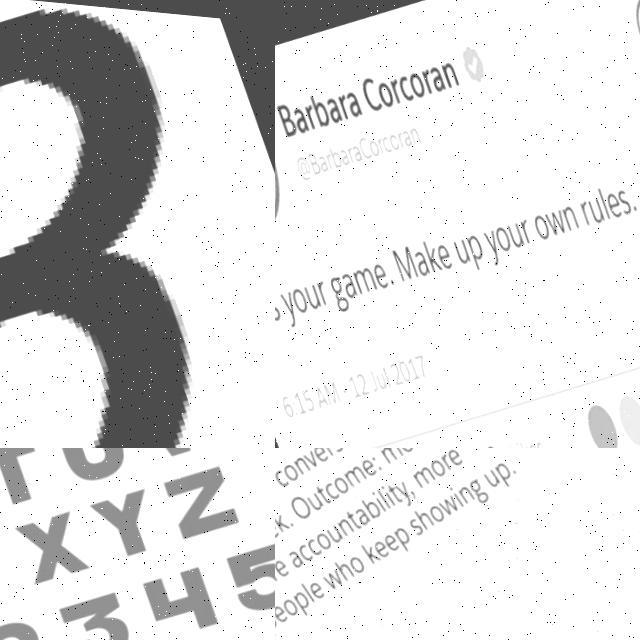1: (303, 385, 320, 413)
2: (0, 603, 59, 640), (282, 391, 300, 419)
3: (0, 0, 275, 448), (55, 572, 142, 640), (417, 348, 433, 375)
4: (140, 551, 223, 636)
5: (220, 519, 275, 610), (475, 438, 499, 448)
9: (181, 620, 270, 640)
A: (427, 59, 450, 90), (413, 244, 435, 276), (324, 92, 346, 123), (344, 86, 366, 117), (341, 268, 362, 300), (291, 104, 312, 133), (315, 381, 334, 408), (338, 144, 354, 167), (317, 150, 332, 173), (403, 124, 416, 146), (351, 140, 364, 160)
B: (309, 89, 335, 127), (276, 100, 301, 137), (329, 143, 346, 168), (308, 149, 324, 175)
C: (358, 71, 387, 112), (395, 69, 417, 101), (356, 132, 376, 159), (381, 130, 396, 151)
E: (371, 257, 395, 290), (436, 237, 459, 268), (605, 180, 627, 212), (529, 434, 545, 448)
G: (329, 270, 355, 311)
I: (517, 433, 530, 448)
J: (367, 362, 384, 391)
K: (423, 233, 447, 270), (521, 431, 537, 448)
L: (597, 179, 614, 213), (384, 361, 395, 385), (509, 434, 527, 448)
M: (392, 239, 423, 282), (352, 262, 381, 295), (325, 377, 346, 405)
N: (561, 196, 584, 228), (440, 56, 461, 84), (408, 121, 425, 145)
O: (532, 204, 556, 237), (406, 65, 430, 98), (291, 281, 314, 314), (493, 218, 516, 250), (375, 76, 398, 107), (388, 127, 403, 150), (368, 135, 383, 156)
P: (467, 228, 492, 266)
R: (579, 191, 597, 219), (520, 210, 538, 238), (420, 64, 438, 91), (389, 74, 407, 101), (338, 91, 355, 118), (304, 102, 321, 128), (318, 277, 335, 302), (395, 124, 409, 147), (325, 150, 338, 168), (376, 134, 389, 152), (348, 144, 358, 161)
S: (615, 178, 637, 210), (275, 293, 286, 323), (537, 431, 551, 448)
U: (507, 214, 529, 246), (305, 281, 326, 310), (454, 233, 474, 260), (589, 190, 608, 217), (377, 366, 392, 389)
W: (544, 200, 571, 232)
Y: (280, 288, 306, 329), (483, 224, 509, 264)
